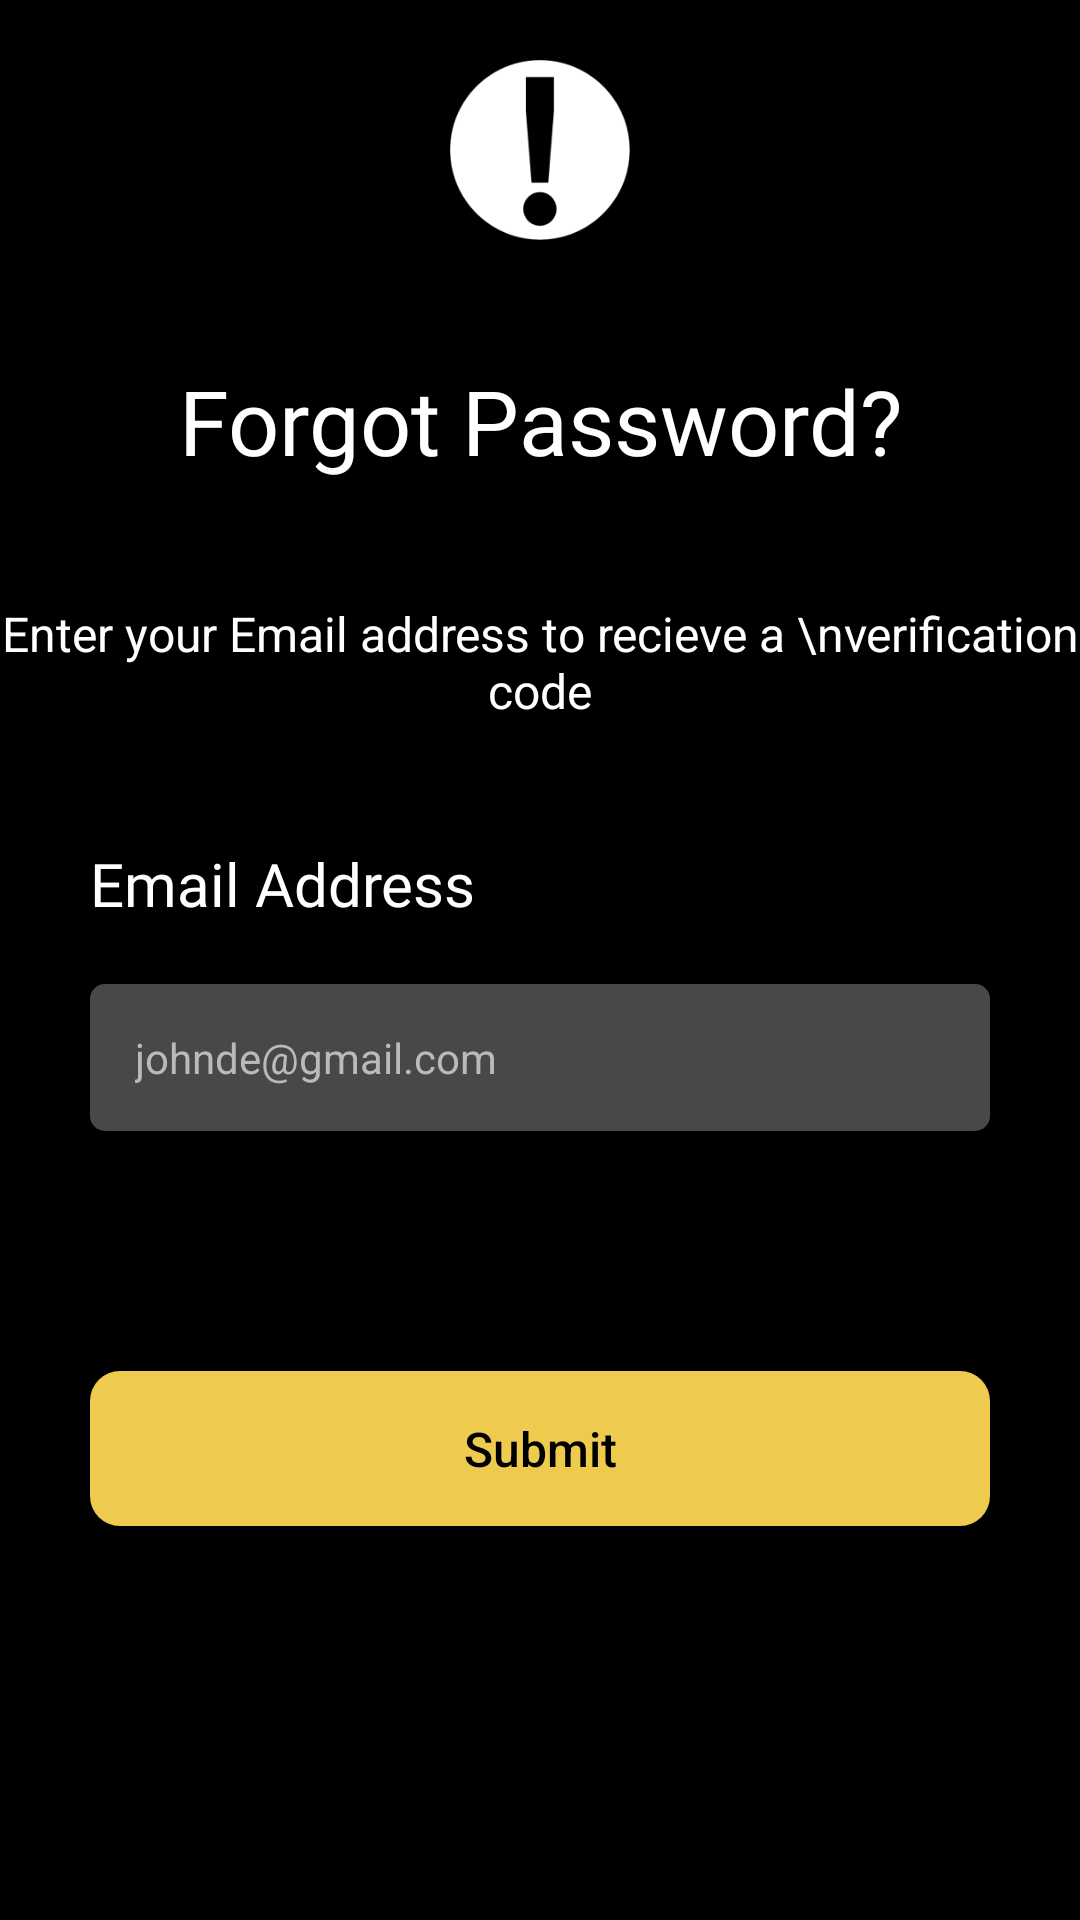

Icons on this 1080 × 1920 Android screen, each with the point to tap as (x=x, y=y):
forgotpassimage: (x=540, y=150)
